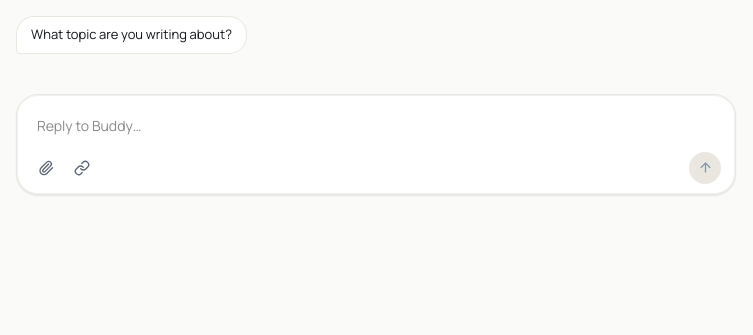
Test: Skip escape hatch › clicking Skip shows naming prompt, does NOT immediately create a project
Expected: the text "What topic are you writing about?" is shown, [16, 16, 247, 54]
In the text box: (376, 125) [31, 106, 721, 144], type "Quantum computing"
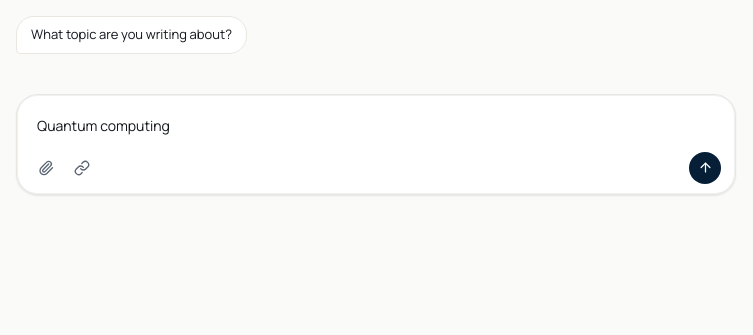
Click the button named "send": (705, 168) [689, 152, 721, 184]
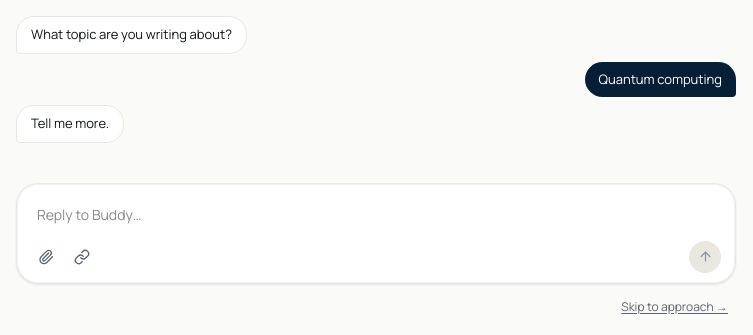
Now the text "Tell me more." is shown, box [16, 105, 124, 142]
Click the button "Skip to approach →": (675, 306) [613, 294, 736, 319]
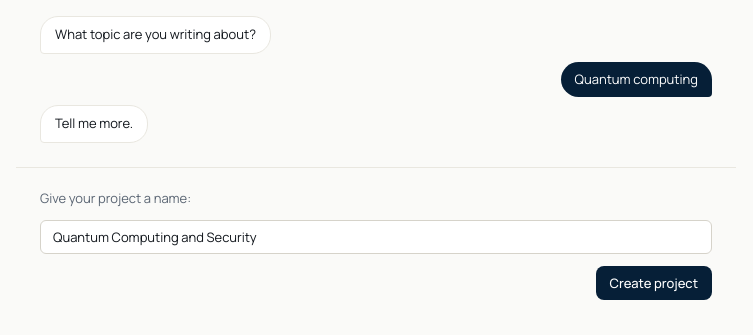
Now the field showing "Quantum Computing and Security" is shown, box [40, 220, 712, 254]
